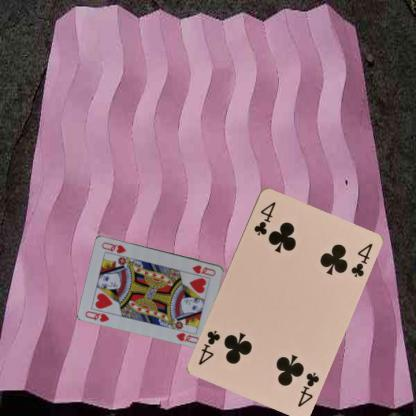4c: (294, 369, 320, 408), (251, 199, 277, 237)
Qh: (190, 262, 217, 278), (83, 308, 110, 323)
